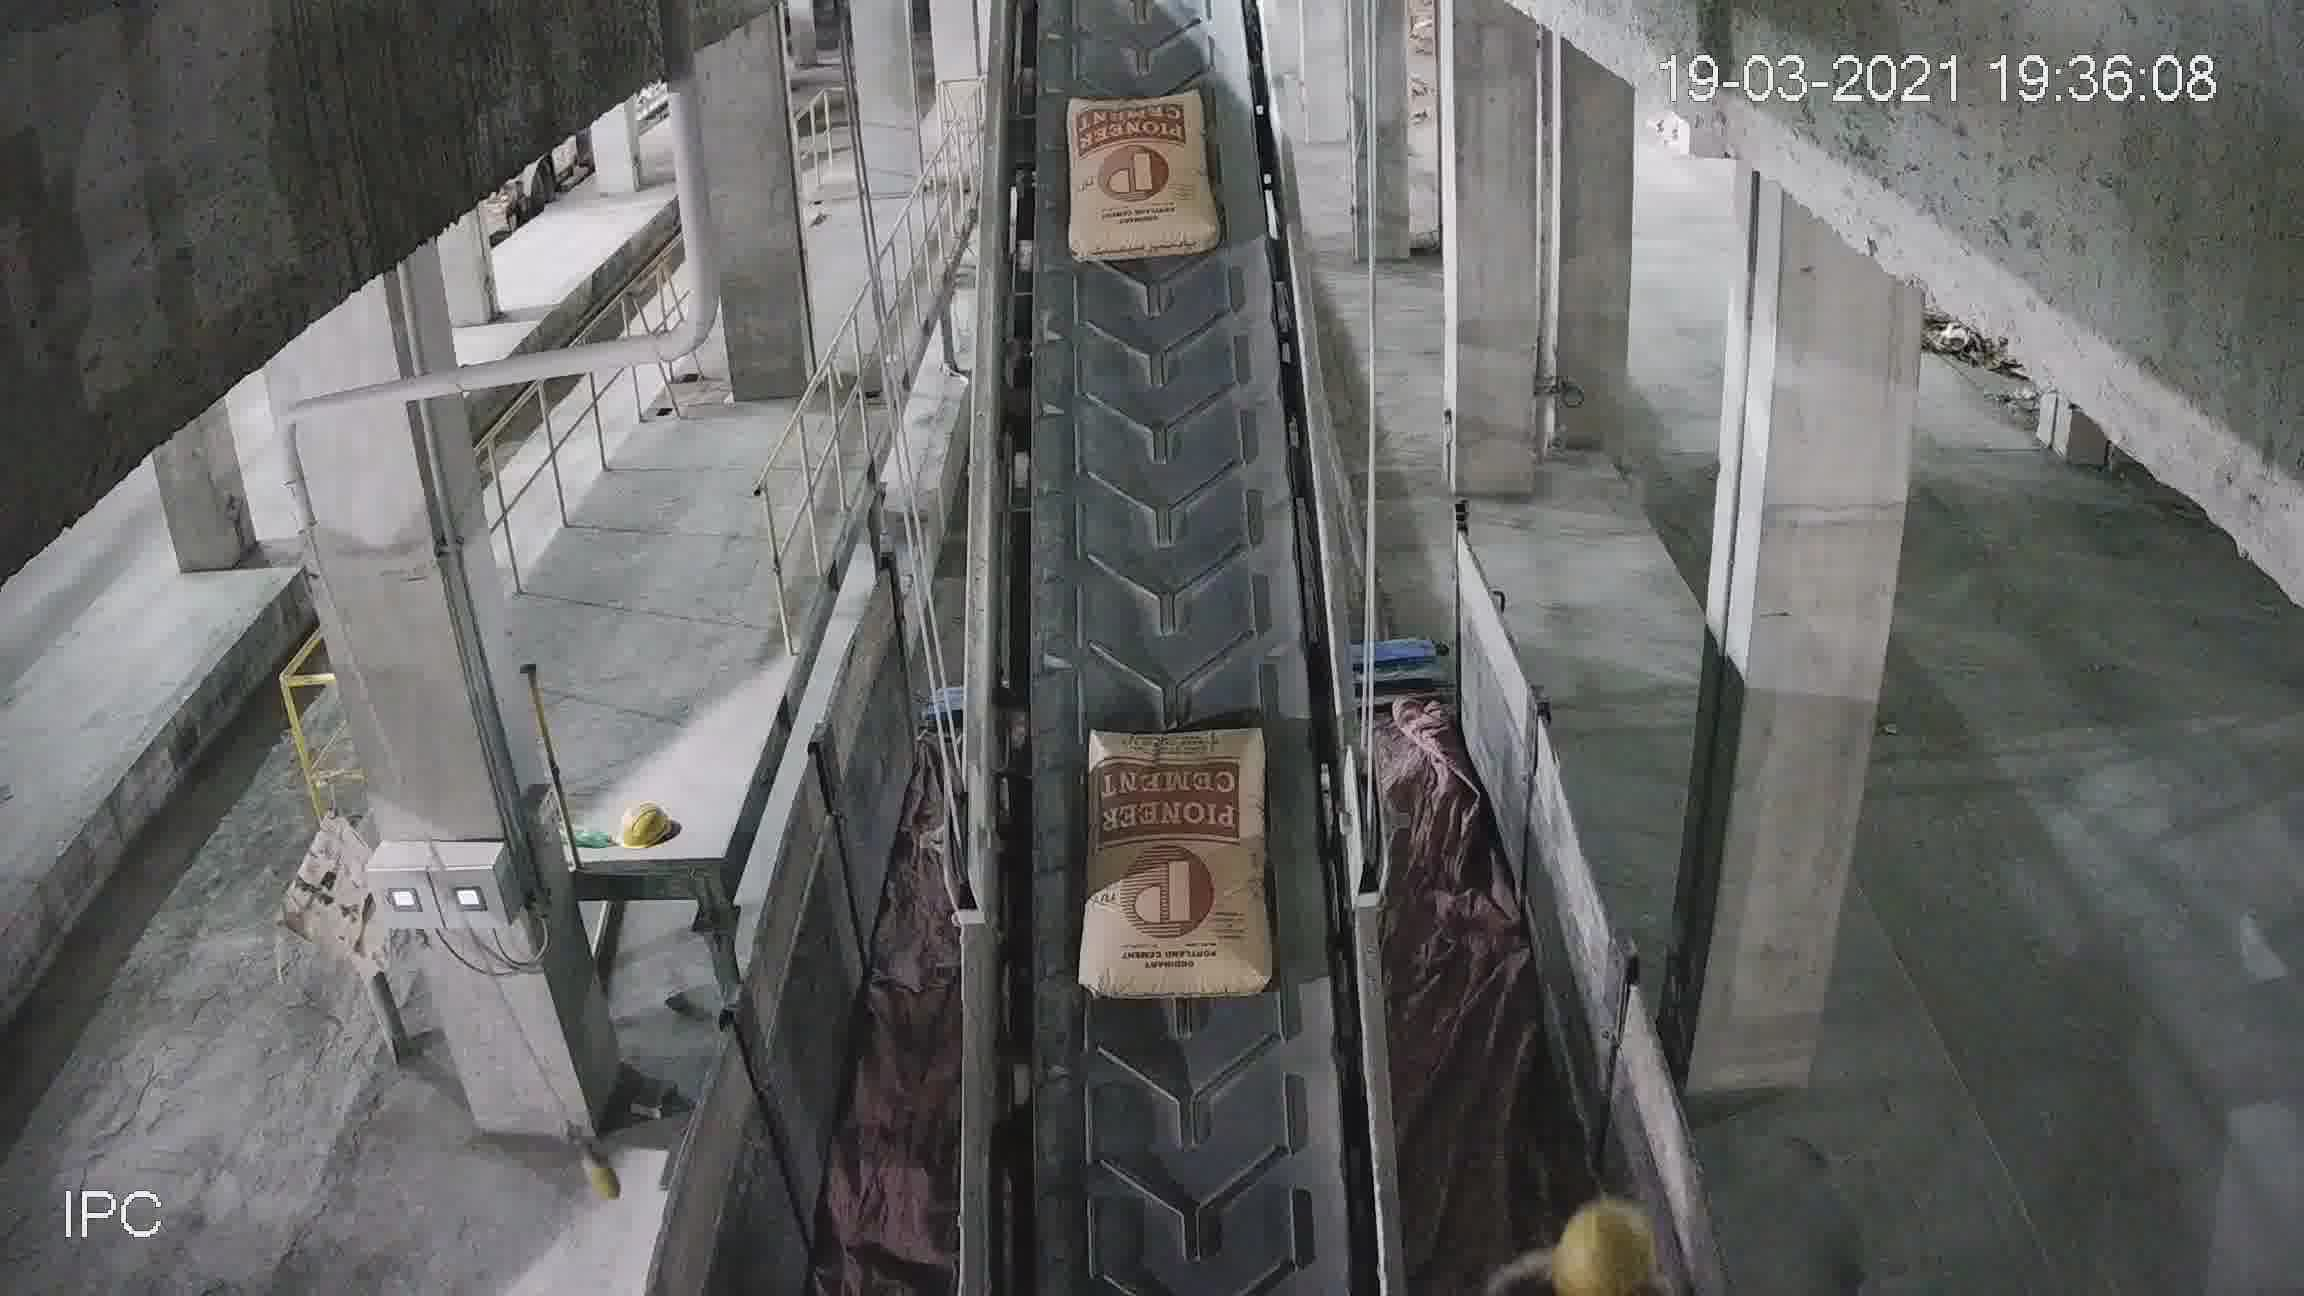bag: (1084, 728, 1275, 1010), (1067, 95, 1214, 263)
belt: (968, 44, 1380, 1294)
